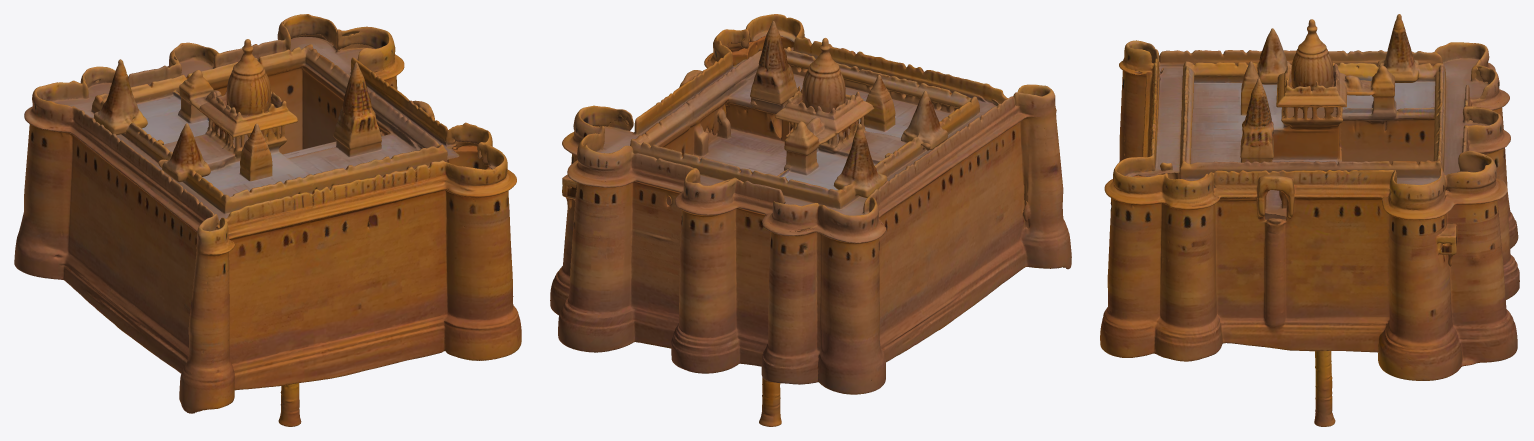
The model's file is jaisalmer_fort.glb.
The picture shows the model from 3 angles, left to right: view 1: azimuth 30°, elevation 25°; view 2: azimuth 150°, elevation 25°; view 3: azimuth 270°, elevation 25°; orthographic projection. The views are drawn at different scales.
Visible parts, largest first — view 1: tripo_node_1c866ff8-6c10-4b8b-8780-8ad255ed5d4a; view 2: tripo_node_1c866ff8-6c10-4b8b-8780-8ad255ed5d4a; view 3: tripo_node_1c866ff8-6c10-4b8b-8780-8ad255ed5d4a.
Boxes of the visible parts, x1,y1,x2,y2 form: tripo_node_1c866ff8-6c10-4b8b-8780-8ad255ed5d4a: (14,14,521,426); tripo_node_1c866ff8-6c10-4b8b-8780-8ad255ed5d4a: (550,14,1071,426); tripo_node_1c866ff8-6c10-4b8b-8780-8ad255ed5d4a: (1100,14,1519,426).
Bounding box in the file's own units: 0.9776 × 1 × 0.9985.
Materials: 1 (1 with a texture image).
